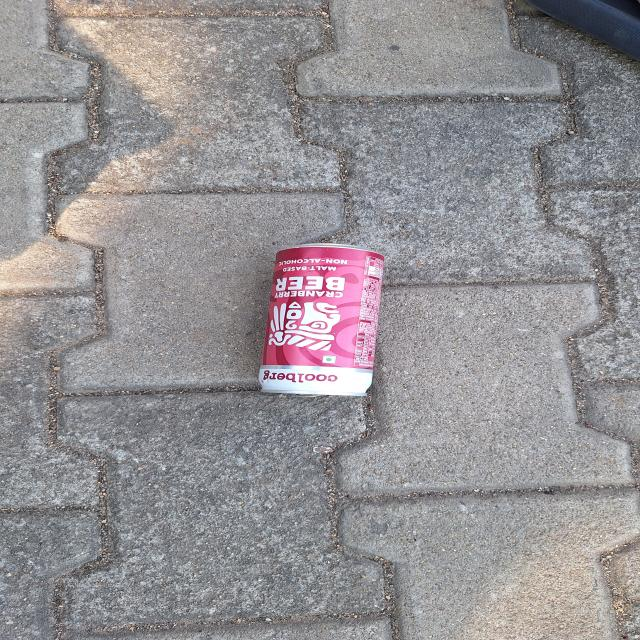Coolberg: (262, 248, 382, 397)
